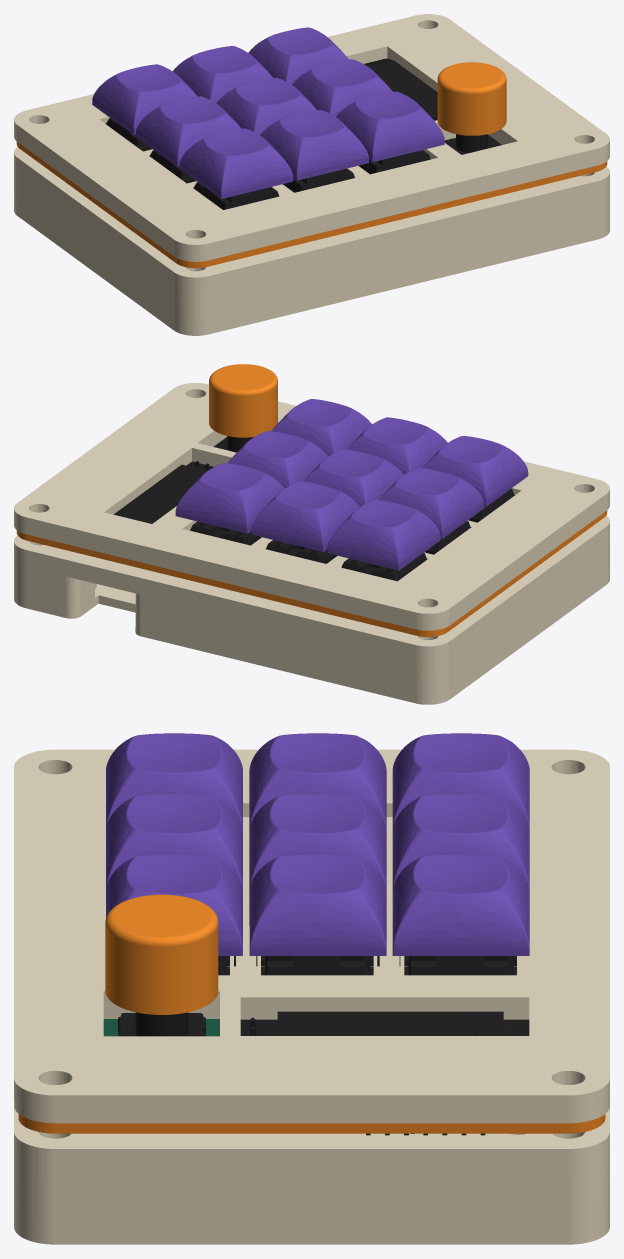
Rendered from cory-dora.glb.
The picture shows the model from 3 angles, top to bottom: view 1: azimuth 30°, elevation 25°; view 2: azimuth 150°, elevation 25°; view 3: azimuth 270°, elevation 25°; orthographic projection. The views are drawn at different scales.
Visible parts, largest first — view 1: frontplate, backplate, keycaps, knob, trim, switches, interior; view 2: frontplate, backplate, keycaps, knob, trim, switches, interior; view 3: frontplate, keycaps, backplate, knob, interior, trim, switches.
Boxes of the visible parts, x1,y1,x2,y2 form: frontplate: (14, 14, 609, 261); backplate: (14, 147, 609, 335); keycaps: (92, 27, 444, 198); knob: (437, 62, 506, 135); trim: (16, 141, 607, 268); switches: (105, 118, 430, 209); interior: (364, 58, 501, 154); frontplate: (14, 383, 609, 630); backplate: (14, 515, 609, 704); keycaps: (175, 399, 528, 570); knob: (209, 364, 277, 437); trim: (16, 510, 607, 636); switches: (190, 489, 514, 581); interior: (113, 436, 253, 523); frontplate: (14, 749, 609, 1123); keycaps: (106, 733, 529, 955); backplate: (14, 1101, 609, 1244); knob: (105, 894, 218, 1014); interior: (118, 956, 529, 1135); trim: (18, 1114, 605, 1133); switches: (218, 956, 516, 975).
Size of the model in its own units: 109 by 36.17 by 79.1.
